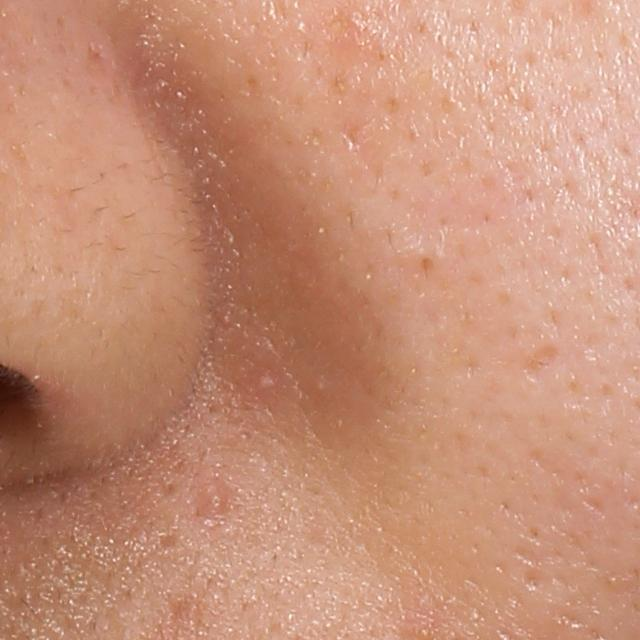atrophic_scar: (520, 340, 562, 385)
